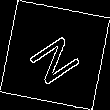N_NE: (23, 24, 87, 86)
